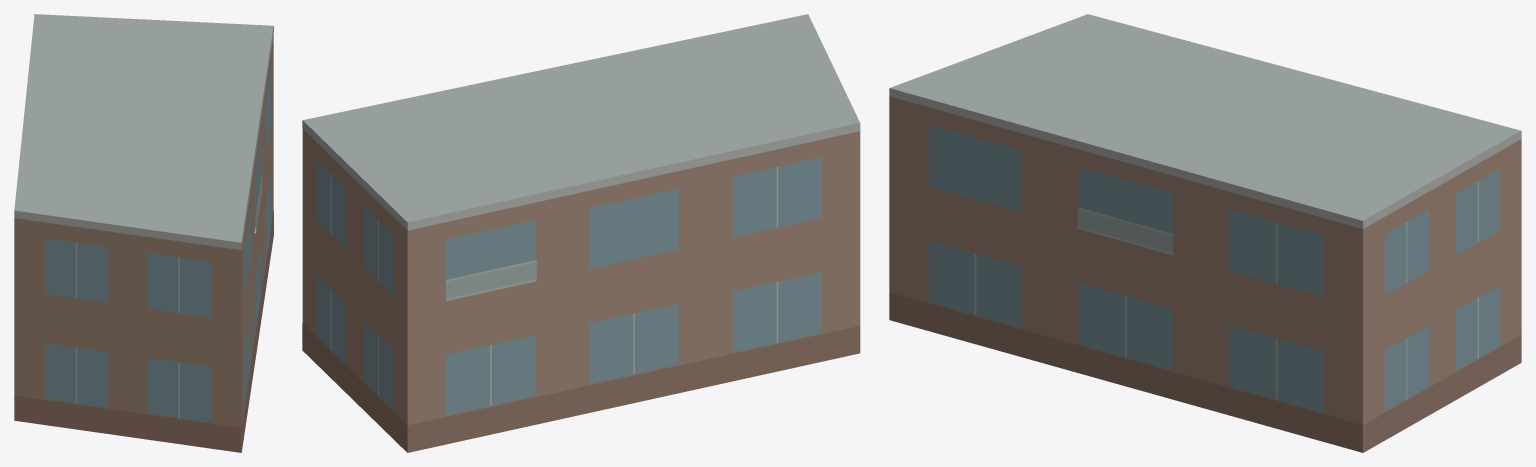
Rendered from survey-upis-32900944.glb.
The picture shows the model from 3 angles, left to right: view 1: azimuth 30°, elevation 25°; view 2: azimuth 150°, elevation 25°; view 3: azimuth 270°, elevation 25°; orthographic projection. The views are drawn at different scales.
Parts seen in each view (by area): view 1: survey-upis-32900944.tmp; view 2: survey-upis-32900944.tmp; view 3: survey-upis-32900944.tmp.
Part boxes in pixels (x1,y1,x2,y2): survey-upis-32900944.tmp: (14, 14, 273, 452); survey-upis-32900944.tmp: (302, 14, 860, 452); survey-upis-32900944.tmp: (889, 14, 1521, 452).
Bounding box in the file's own units: 13.21 × 6.9 × 17.05.
